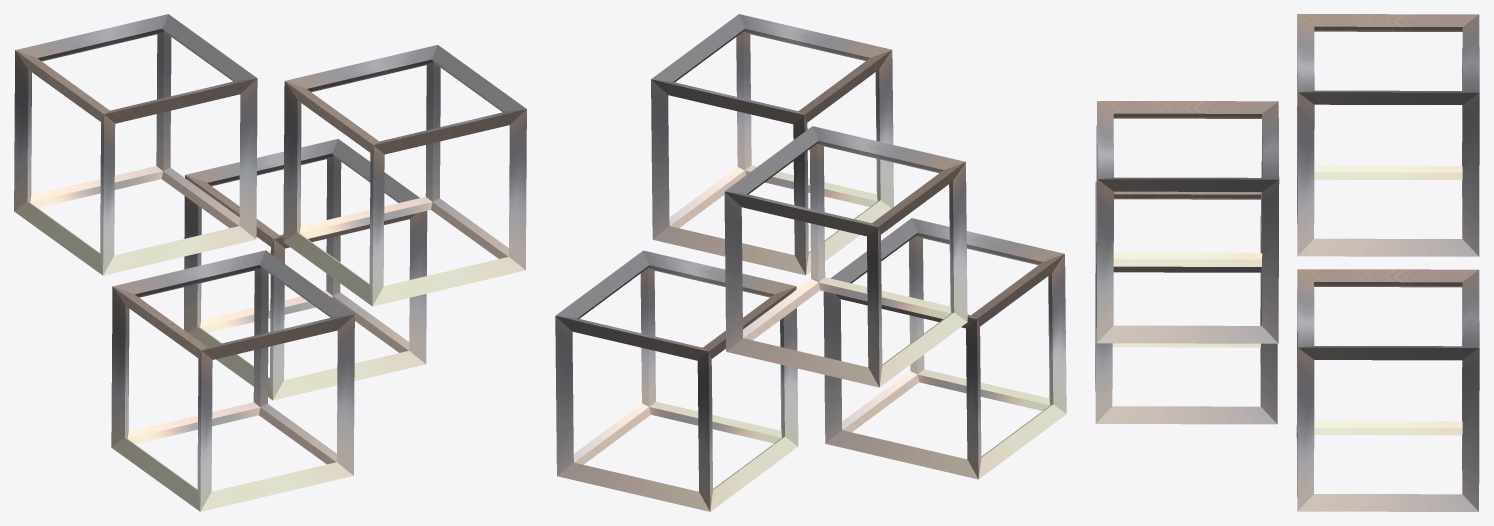
Rendered from EsculturaInterna.obj.
3 views of the same model, side by side, from view 1: azimuth 30°, elevation 25°; view 2: azimuth 150°, elevation 25°; view 3: azimuth 270°, elevation 25° (orthographic). The views are drawn at different scales.
Parts seen in each view (by area): view 1: Cube.005; view 2: Cube.005; view 3: Cube.005.
Part boxes in pixels (x1=…): Cube.005: x1=14, y1=14, x2=526, y2=511; Cube.005: x1=555, y1=14, x2=1066, y2=511; Cube.005: x1=1095, y1=14, x2=1479, y2=511.
Bounding box in the file's own units: 0.2692 × 0.258 × 0.2667.
1 material, 1 textured.
